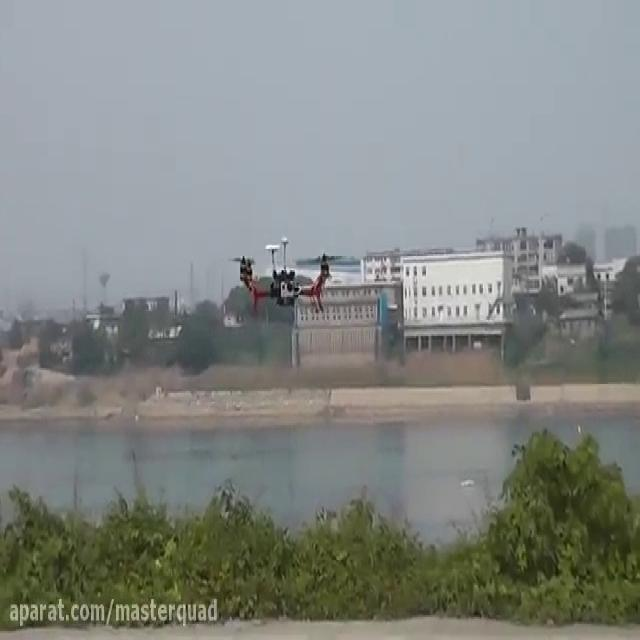drone: (226, 233, 346, 318)
